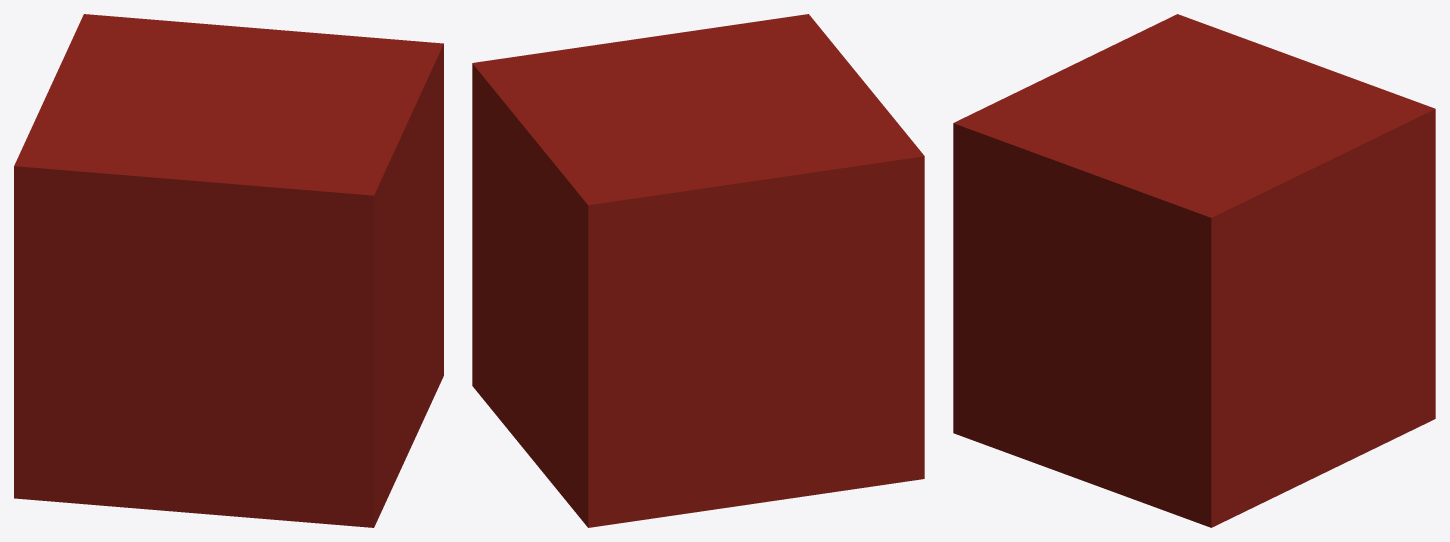
3 renders of one model, left to right at view 1: azimuth 30°, elevation 25°; view 2: azimuth 150°, elevation 25°; view 3: azimuth 270°, elevation 25°, orthographic. The views are drawn at different scales.
Parts seen in each view (by area): view 1: Steve1; view 2: Steve1; view 3: Steve1.
Boxes of the visible parts, x1,y1,x2,y2 form: Steve1: (14,14,443,527); Steve1: (472,14,924,527); Steve1: (953,14,1435,527).
Bounding box in the file's own units: 14.11 × 10 × 14.11.
